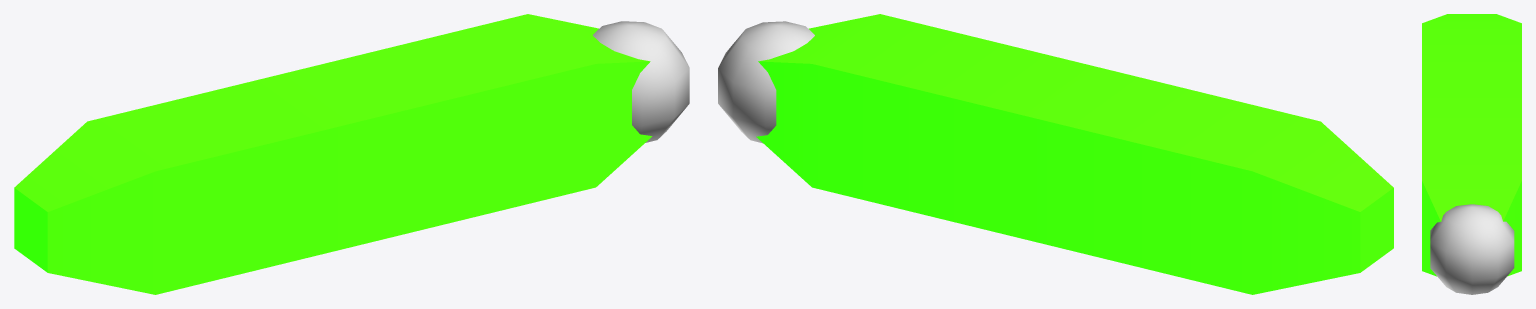
File: PEWPEW.BULLET.fbx
3 renders of one model, left to right at view 1: azimuth 30°, elevation 25°; view 2: azimuth 150°, elevation 25°; view 3: azimuth 270°, elevation 25°, orthographic. The views are drawn at different scales.
Visible parts, largest first — view 1: pCube1, Sphere; view 2: pCube1, Sphere; view 3: pCube1, Sphere.
Boxes of the visible parts, bbox=[...] form: pCube1: bbox=[14, 14, 652, 294]; Sphere: bbox=[593, 21, 689, 142]; pCube1: bbox=[756, 14, 1393, 294]; Sphere: bbox=[718, 21, 814, 143]; pCube1: bbox=[1422, 14, 1521, 276]; Sphere: bbox=[1430, 204, 1514, 294].
Size of the model in its own units: 5.51 by 1 by 1.
